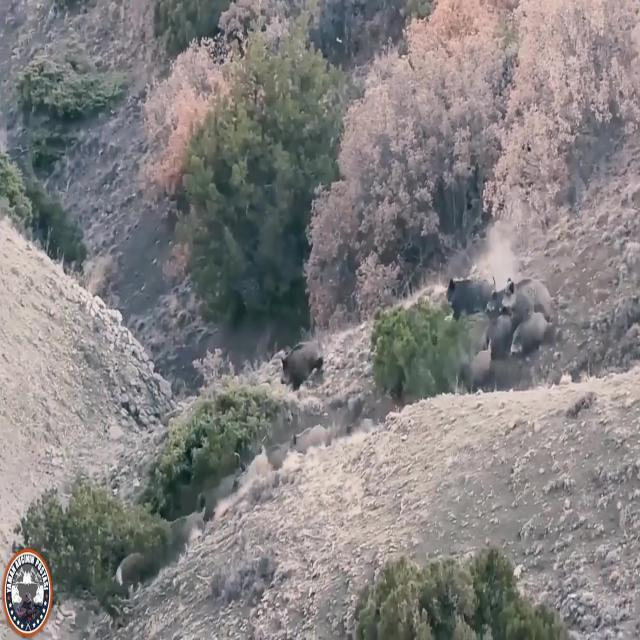pig: (499, 262, 569, 330), (436, 260, 498, 320), (272, 339, 338, 394)
